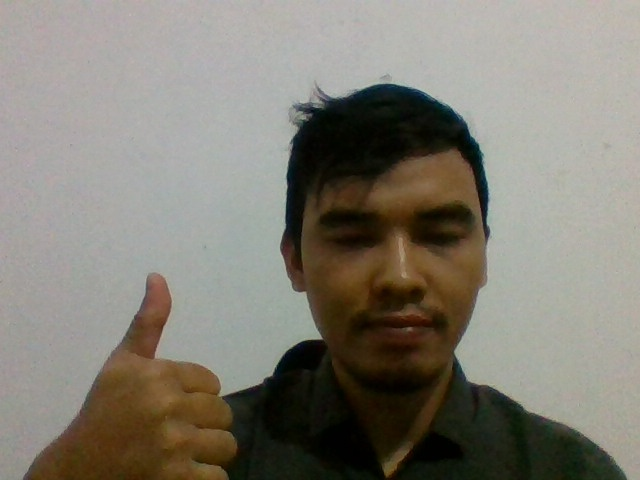hello: (57, 269, 241, 480)
